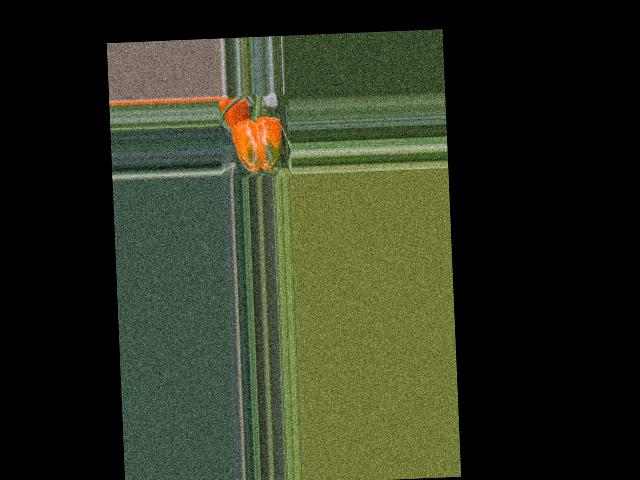bell_pepper: (228, 109, 290, 177)
